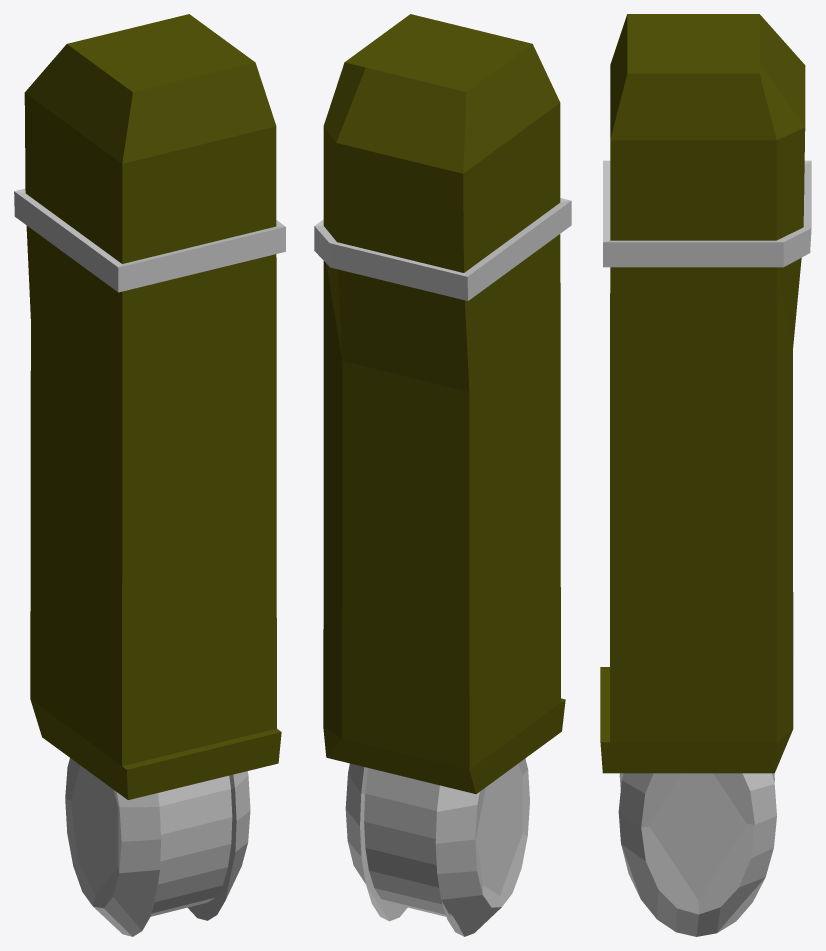
File: leftUpLeg.obj
3 views of the same model, side by side, from view 1: azimuth 30°, elevation 25°; view 2: azimuth 150°, elevation 25°; view 3: azimuth 270°, elevation 25° (orthographic).
Parts seen in each view (by area): view 1: 4_Upper_leg.L_Cube.040; view 2: 4_Upper_leg.L_Cube.040; view 3: 4_Upper_leg.L_Cube.040.
Part boxes in pixels (box(x1,y1,x2,y2)): 4_Upper_leg.L_Cube.040: box(14, 14, 285, 936); 4_Upper_leg.L_Cube.040: box(314, 14, 571, 936); 4_Upper_leg.L_Cube.040: box(600, 14, 811, 936).
Size of the model in its own units: 0.8847 by 4.42 by 0.9665.
